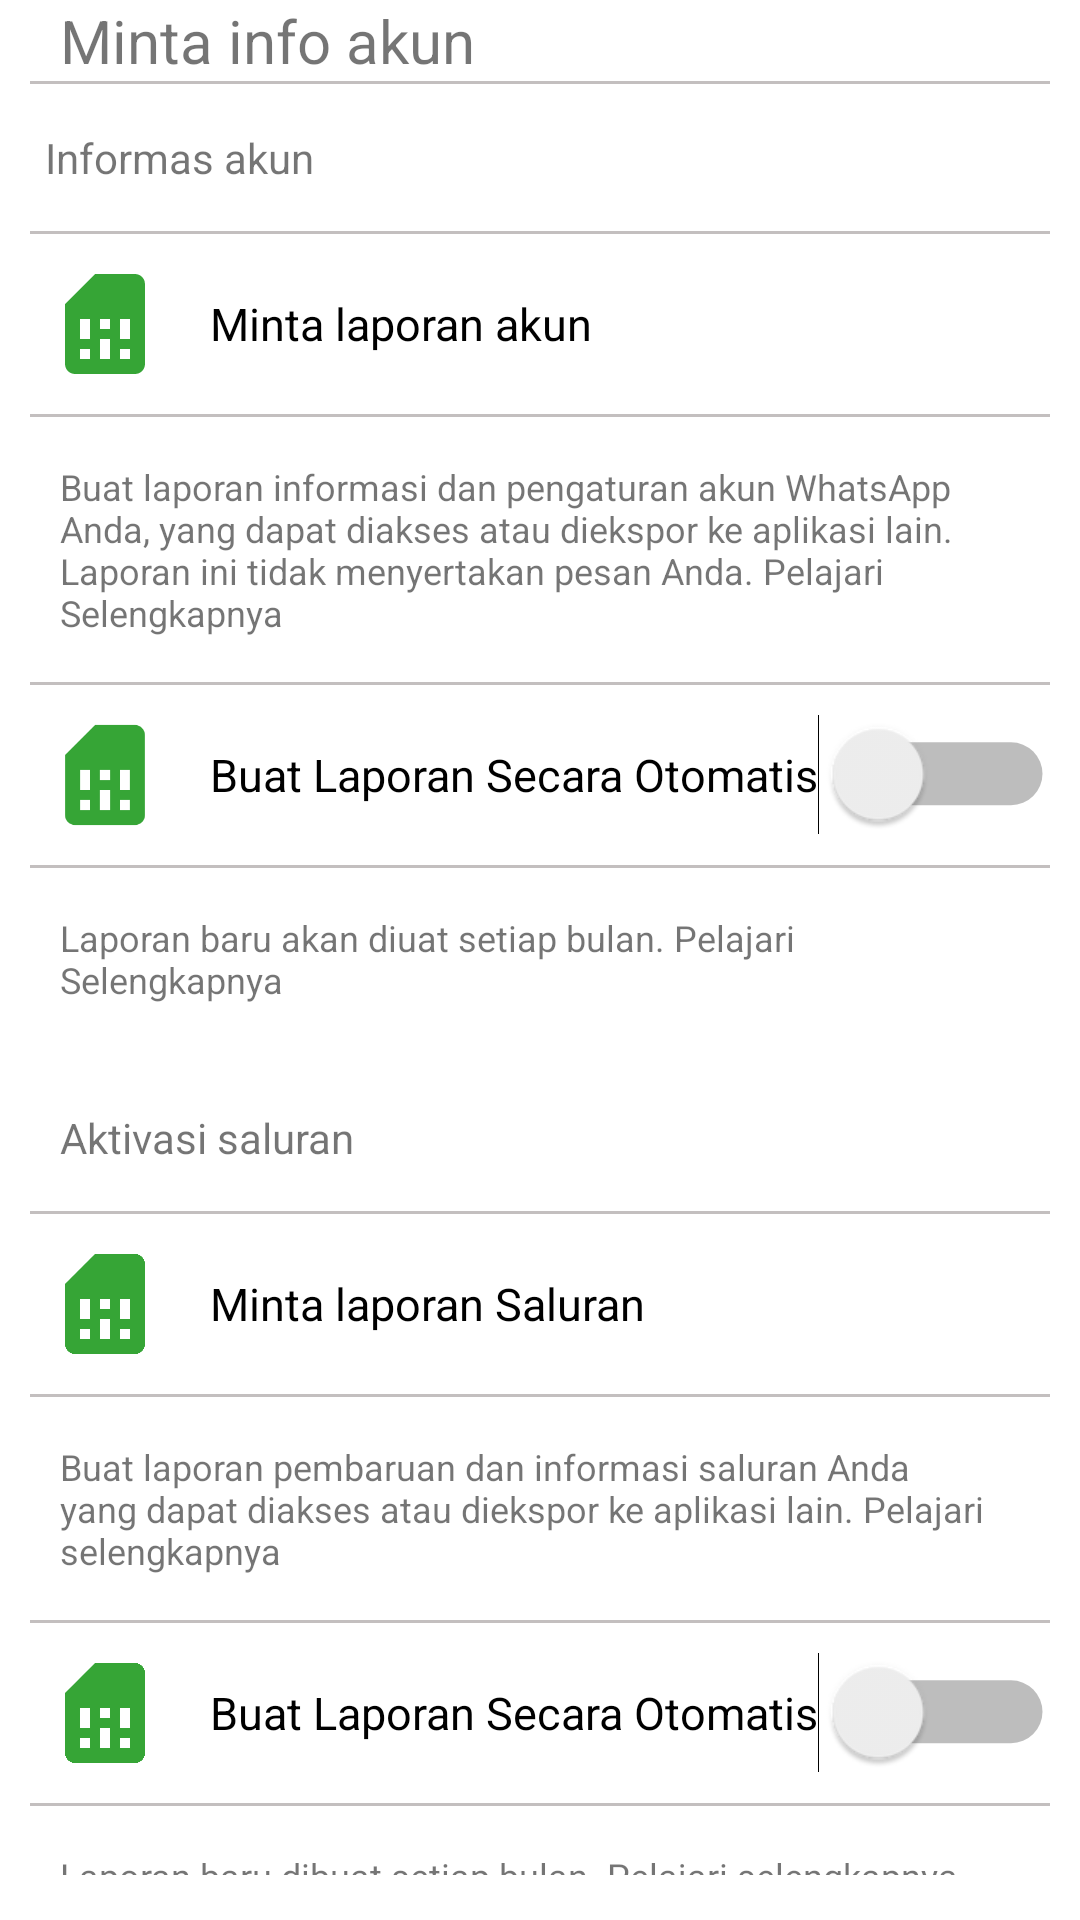

Icons on this 1080px×1920px Android screen, each with the point to tap as (x,y):
sim card: (105,324), (105,775), (105,1304), (105,1713)
